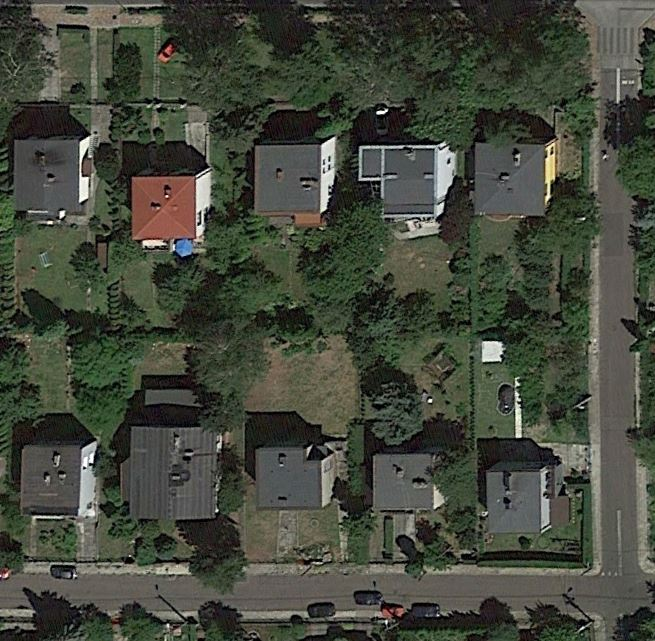family house: (121, 416, 226, 530), (356, 132, 464, 231), (468, 130, 561, 219), (14, 432, 102, 523), (126, 160, 217, 247), (251, 131, 338, 220), (251, 434, 343, 516), (10, 135, 93, 215), (484, 456, 555, 537), (367, 443, 445, 514)
